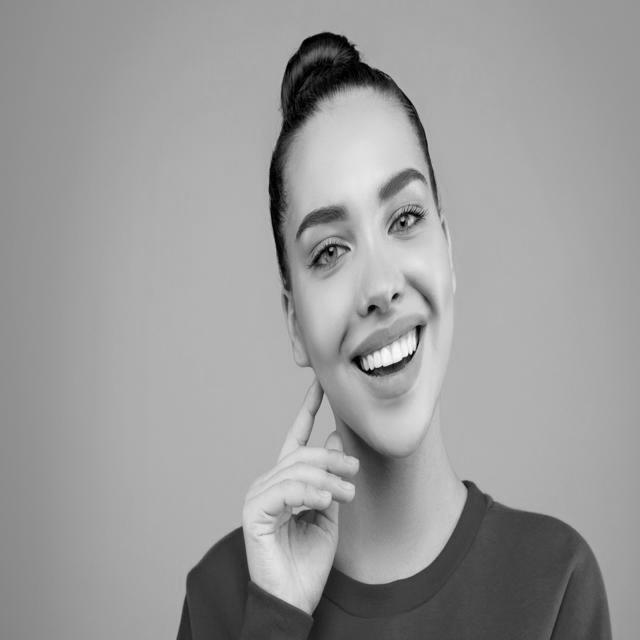Happiness: (279, 88, 456, 461)
